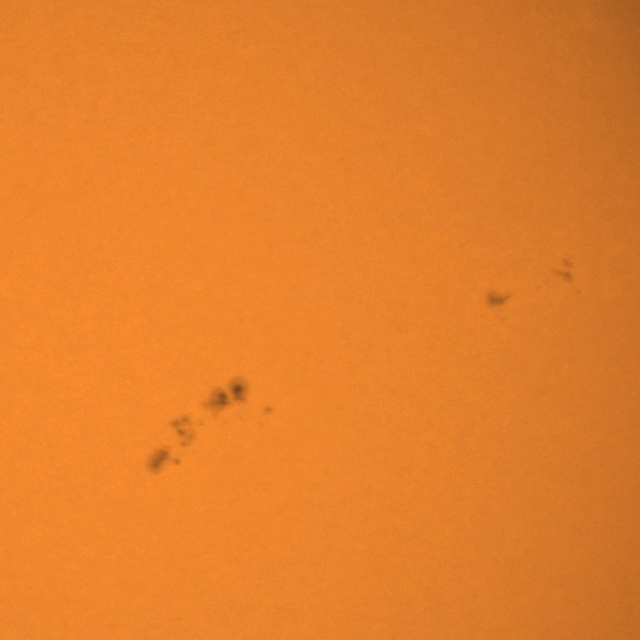sunspot: (198, 378, 249, 418), (143, 441, 184, 475), (168, 414, 206, 448), (556, 257, 576, 287), (262, 405, 276, 417)
